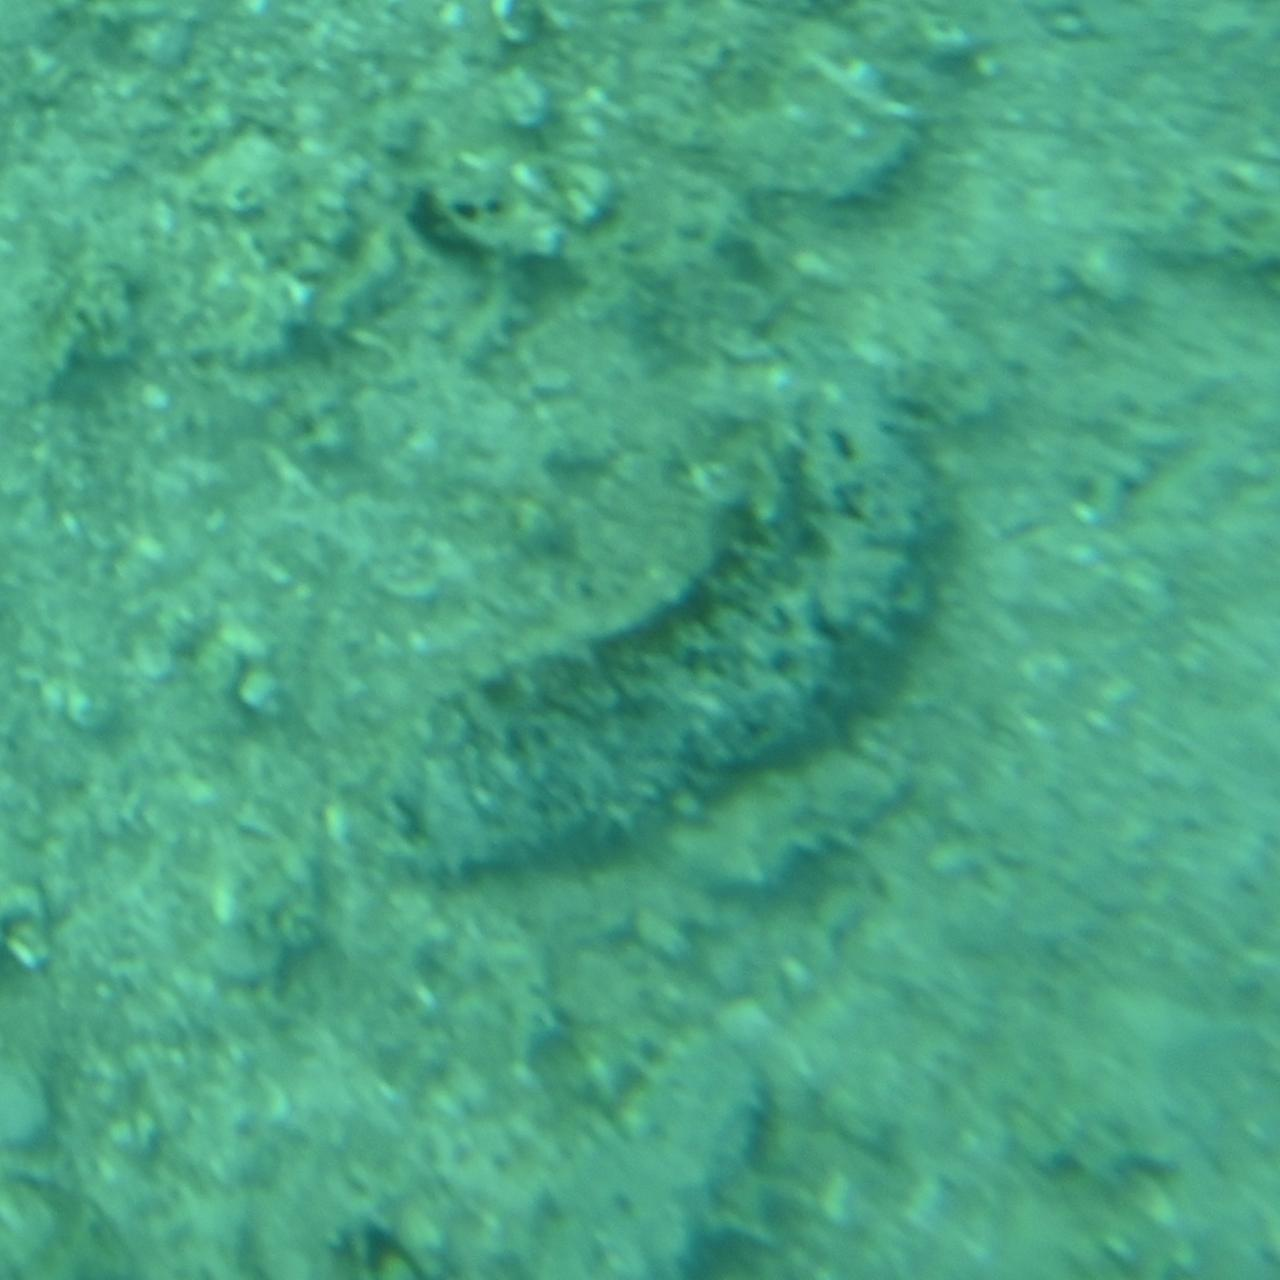Holothuria tubulosa: (312, 356, 968, 924)
